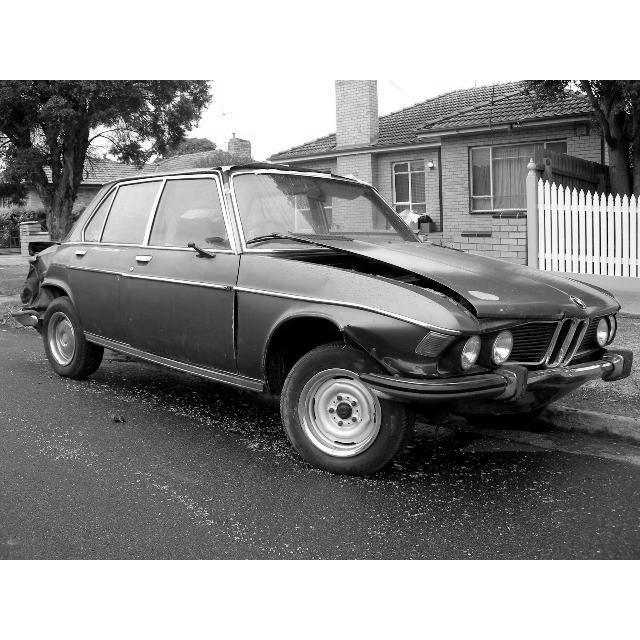bonnet-dent: (279, 221, 525, 305)
fender-dent: (322, 309, 454, 383)
